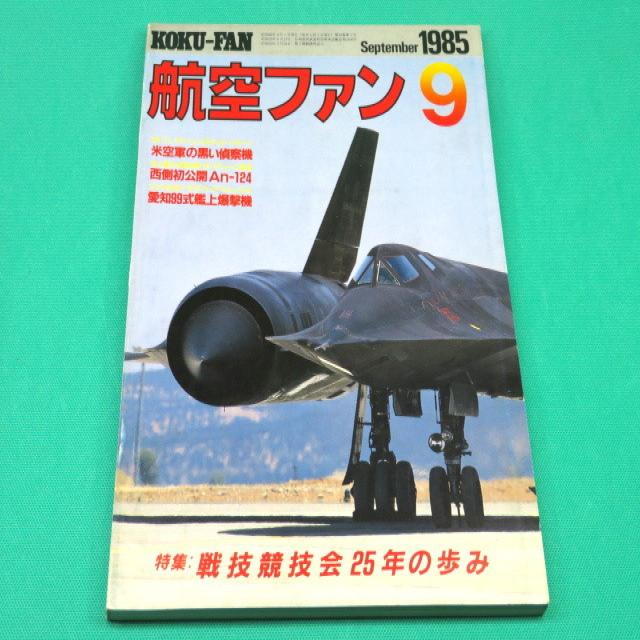MIL_Plane: (124, 125, 523, 528)
